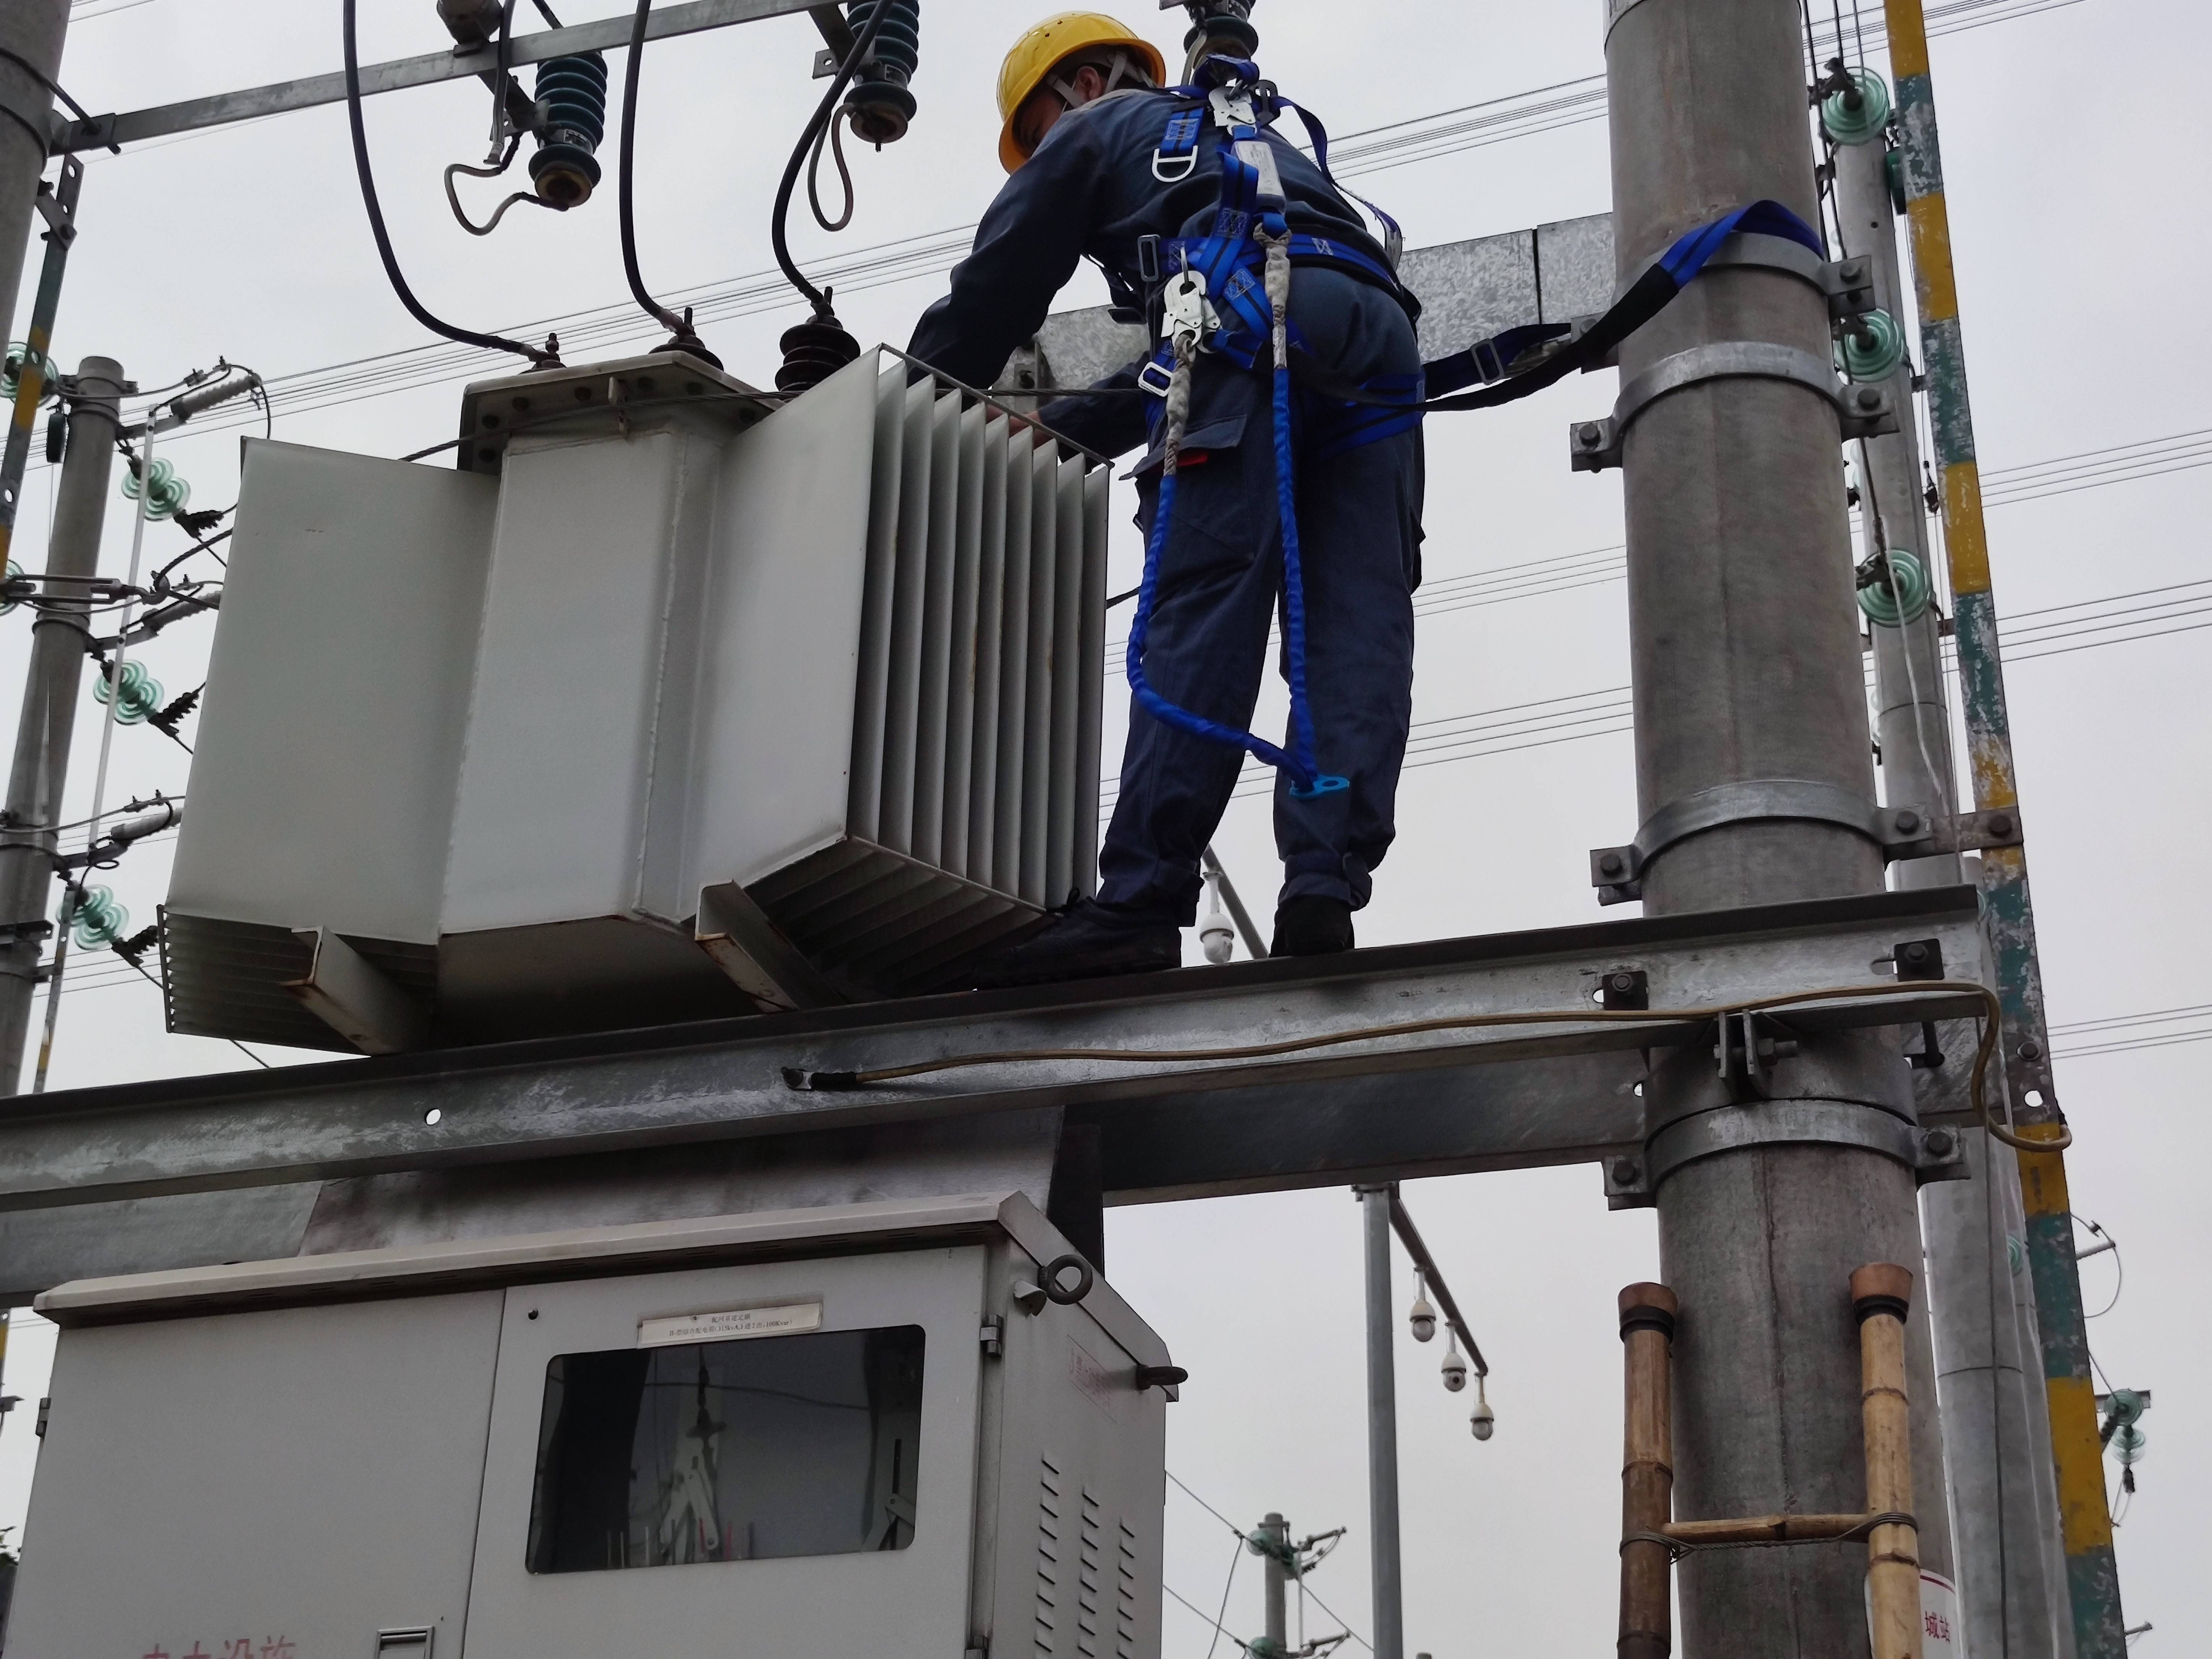downsuit: (1096, 331, 1430, 917)
upsuit: (909, 84, 1414, 317)
